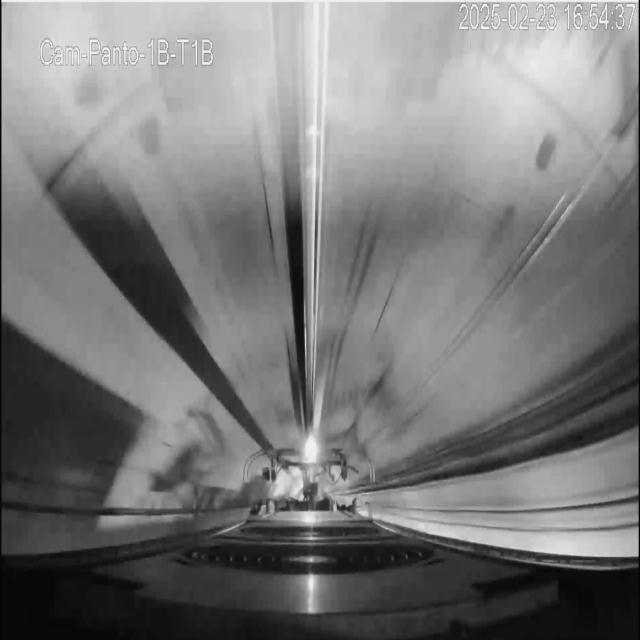Camera Stamp: (37, 31, 216, 70)
Date Stamp: (454, 1, 638, 38)
Sparks: (302, 432, 320, 467)
